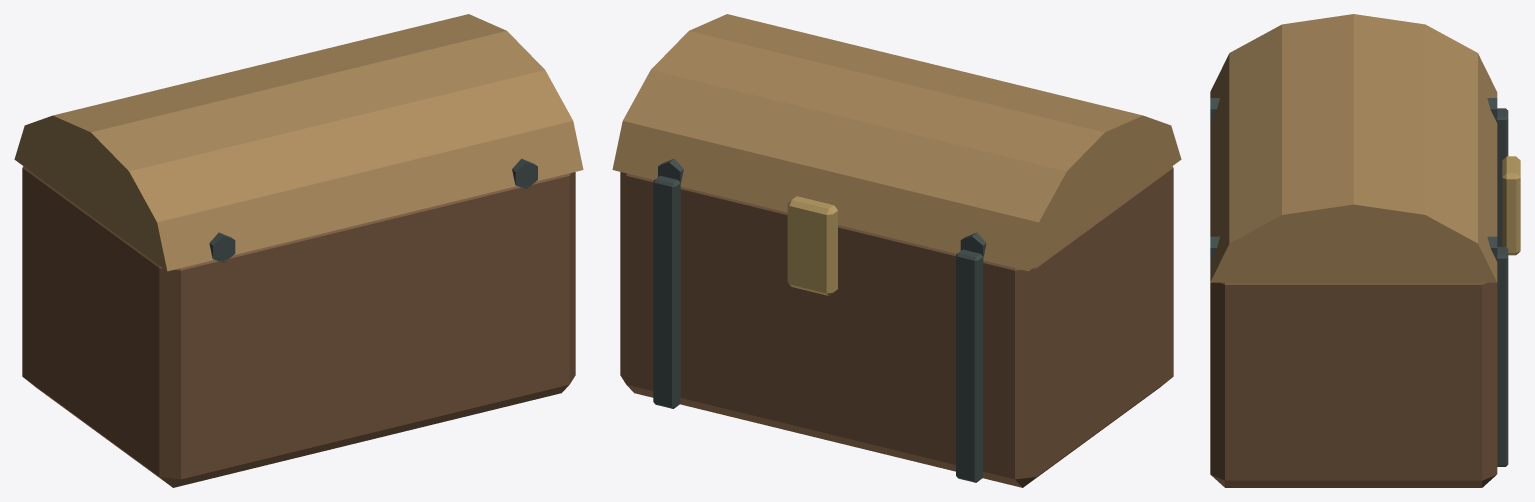
Rendered from Camp_Warehouse_L0.fbx.
3 views of the same model, side by side, from view 1: azimuth 30°, elevation 25°; view 2: azimuth 150°, elevation 25°; view 3: azimuth 270°, elevation 25° (orthographic). The views are drawn at different scales.
Visible parts, largest first — view 1: Camp_Warehouse_L0_Export; view 2: Camp_Warehouse_L0_Export; view 3: Camp_Warehouse_L0_Export.
Part boxes in pixels (box(x1,y1,x2,y2)): Camp_Warehouse_L0_Export: box(14, 14, 583, 487); Camp_Warehouse_L0_Export: box(612, 14, 1181, 487); Camp_Warehouse_L0_Export: box(1210, 14, 1520, 487).
Size of the model in its own units: 1.21 by 0.858 by 0.8333.
